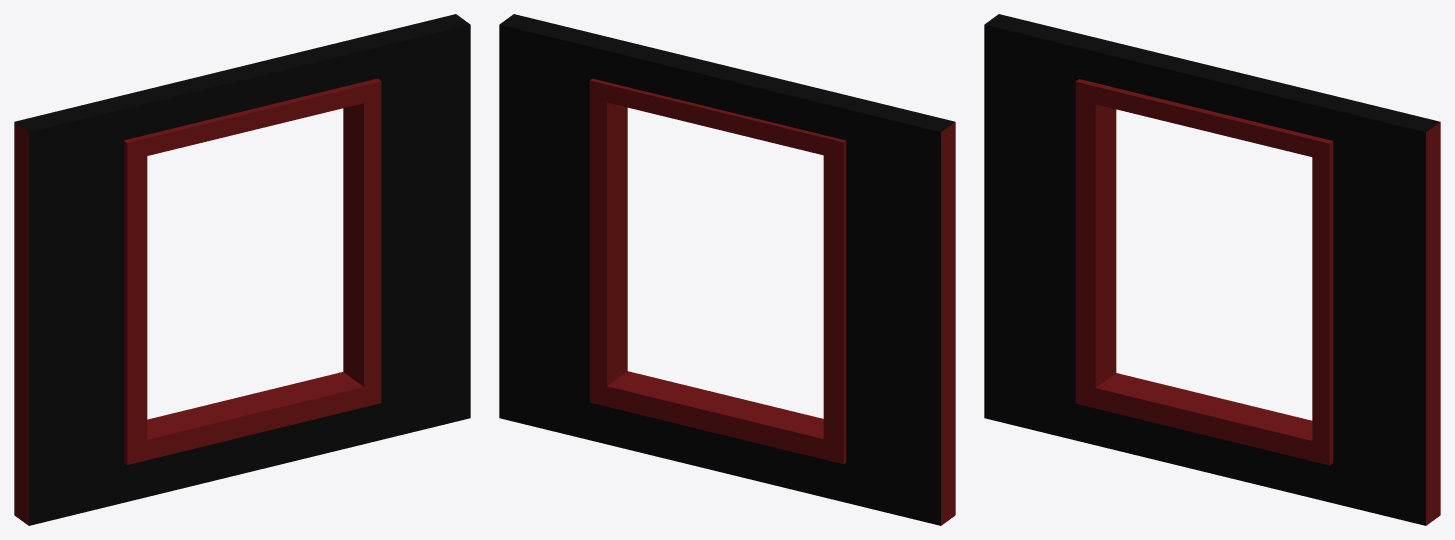
The model's file is Back W Wall 2 - Right_Left.FBX.
3 renders of one model, left to right at view 1: azimuth 30°, elevation 25°; view 2: azimuth 150°, elevation 25°; view 3: azimuth 330°, elevation 25°, orthographic.
Visible parts, largest first — view 1: Box048; view 2: Box048; view 3: Box048.
Part boxes in pixels (x1,y1,x2,y2): Box048: (14, 14, 470, 525); Box048: (499, 14, 955, 525); Box048: (984, 14, 1440, 525).
Size of the model in its own units: 17.61 by 15 by 1.43.
